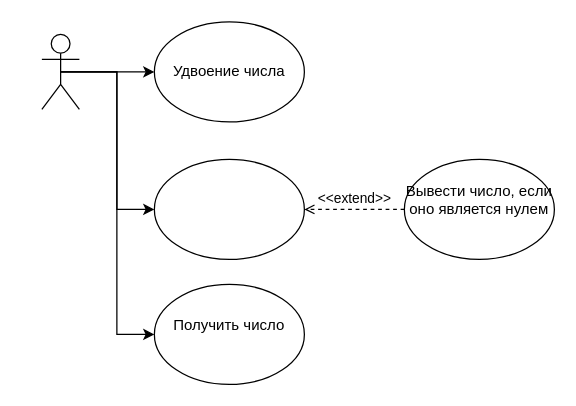
Some shapes in this 576 by 406 pixel diagram are drawn without their labels. Here are the shapes that lost their labels. From the top down, the box of each, then its label:
(41, 33, 79, 109): Программа
(153, 158, 304, 259): Вывести число
